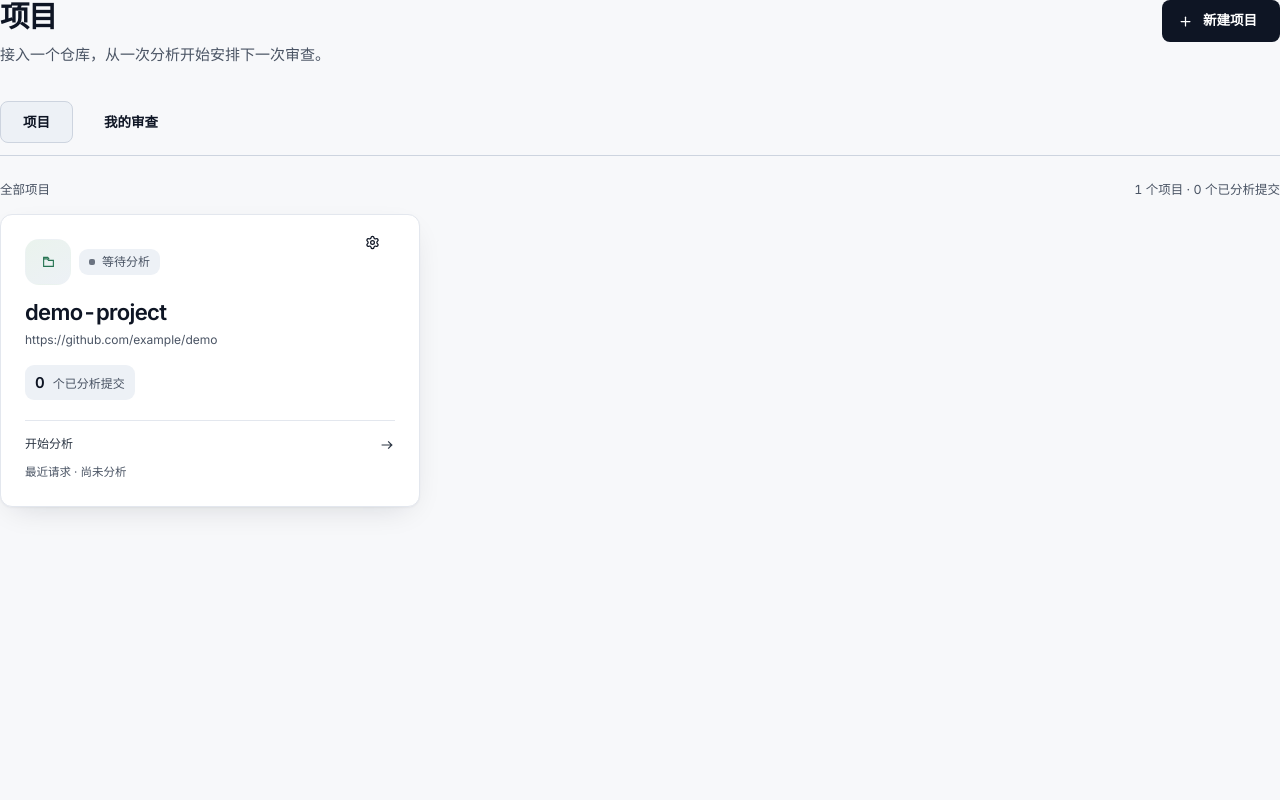
Test case: asks for confirmation before deleting a project
Expected: the heading "demo-project" is shown, [25,299,166,325]
Click the button named "管理项目 demo-project" at [380, 243], box [352,225,409,261]
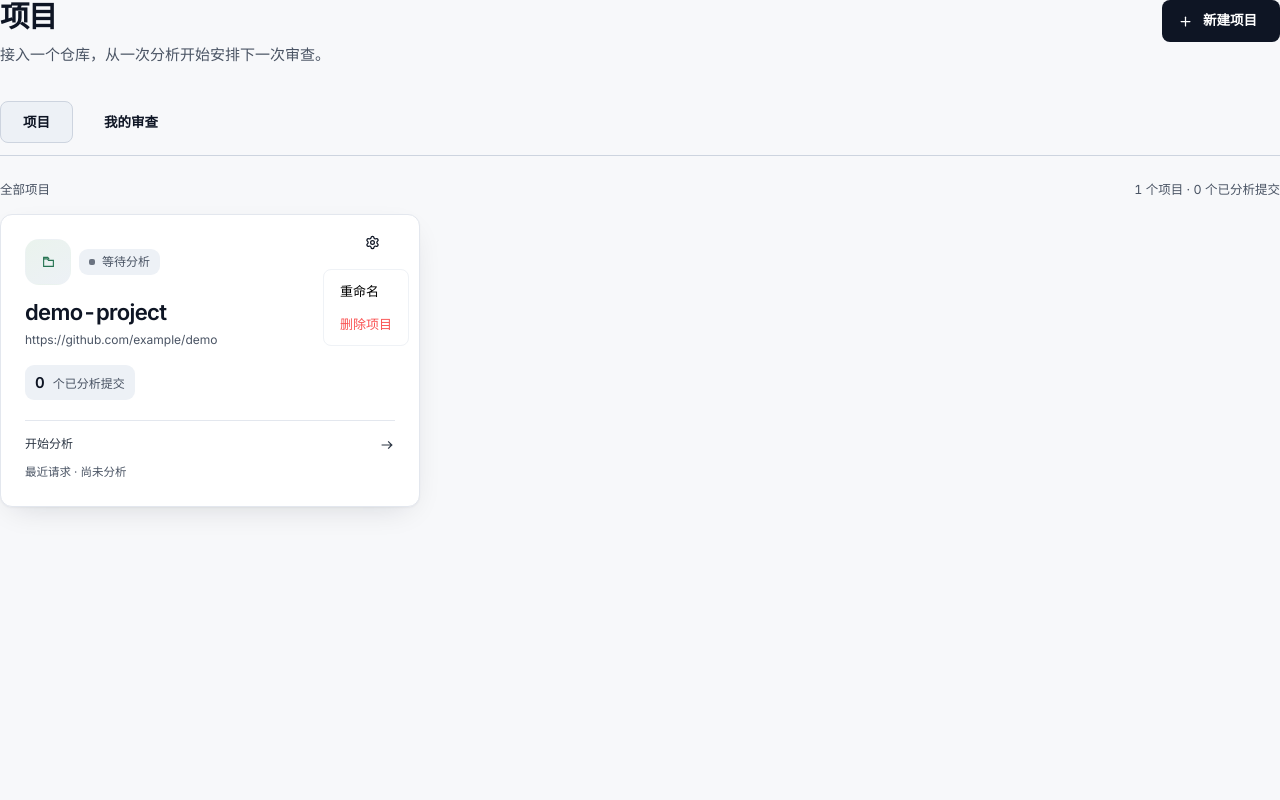
Click the menu item "删除项目" at [366, 324], box [328,307,404,341]
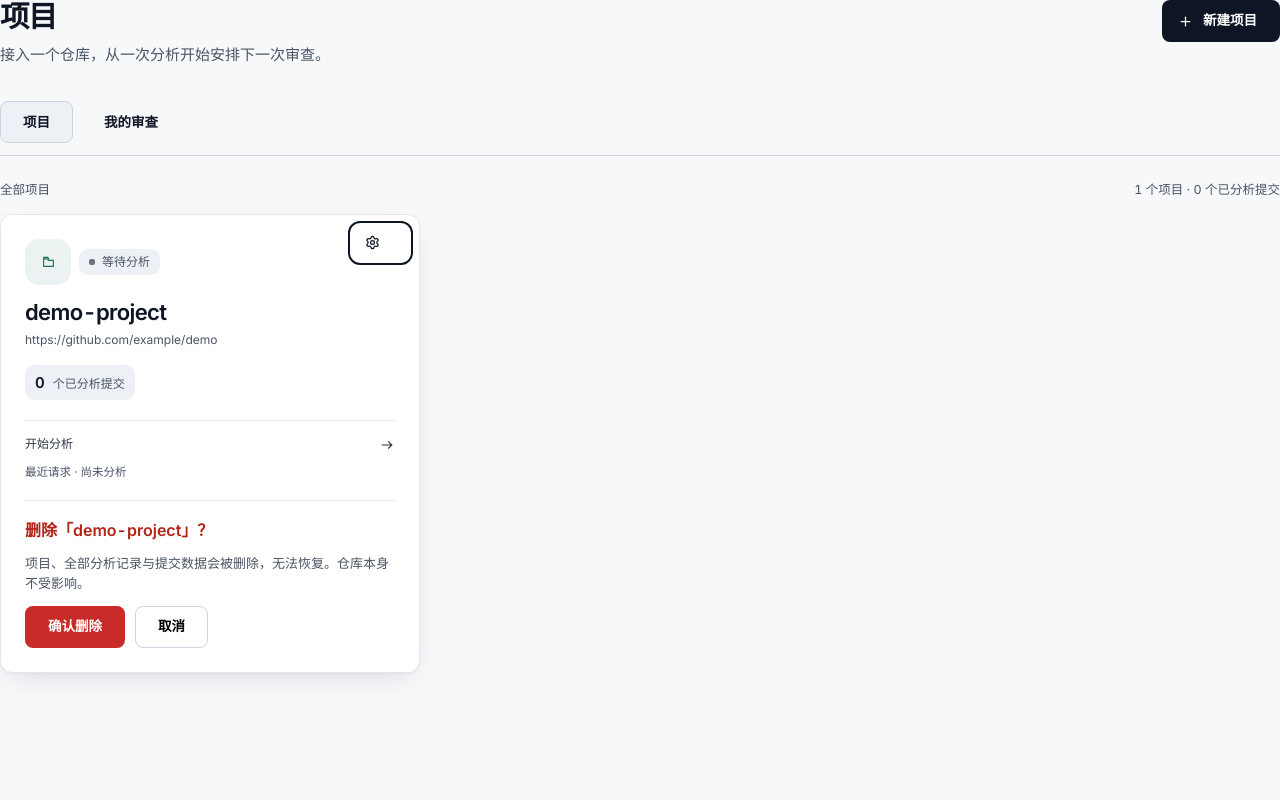
Now the dialog named "确认删除项目" is shown, box [25,500,395,648]
Click the button "确认删除" at [75, 627], box [25,606,125,648]
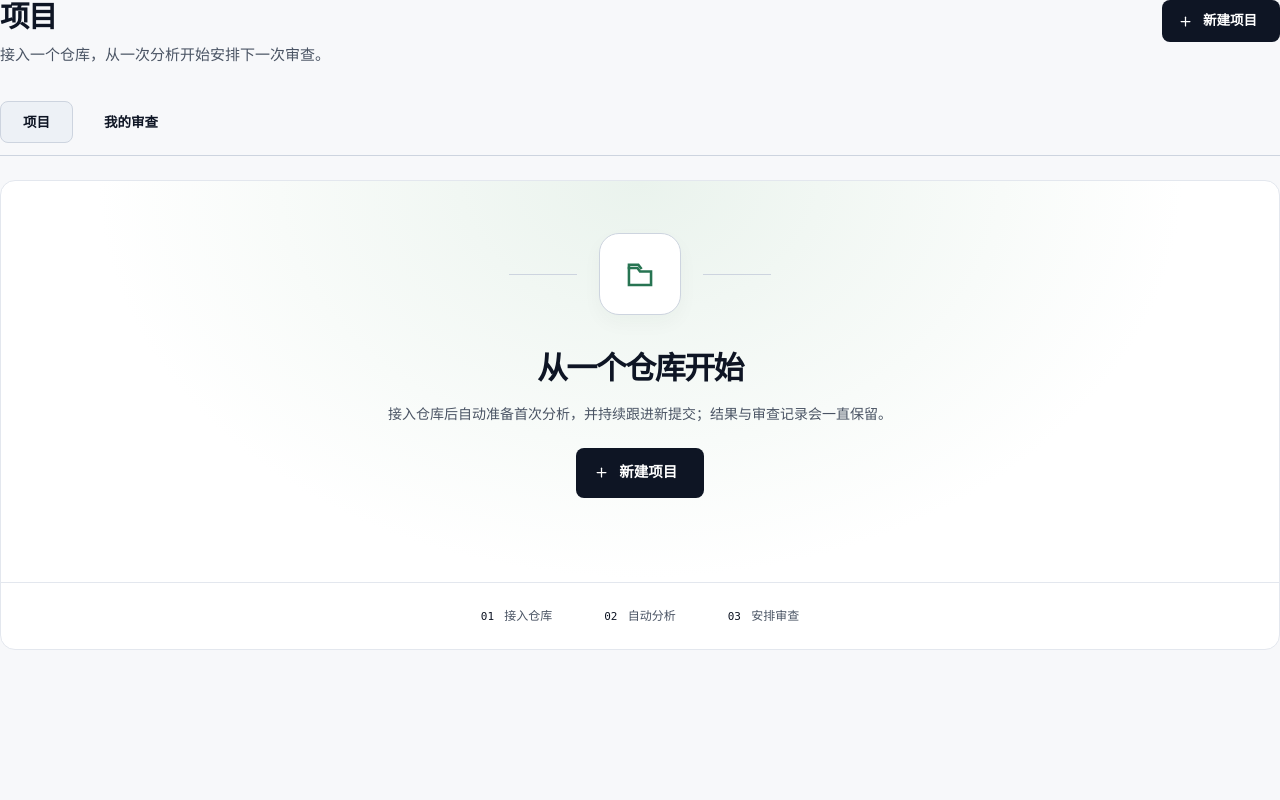
Now the heading "从一个仓库开始" is shown, box [537,346,743,390]
